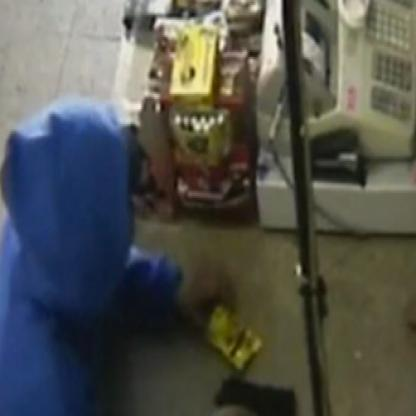gun: (212, 371, 311, 414)
